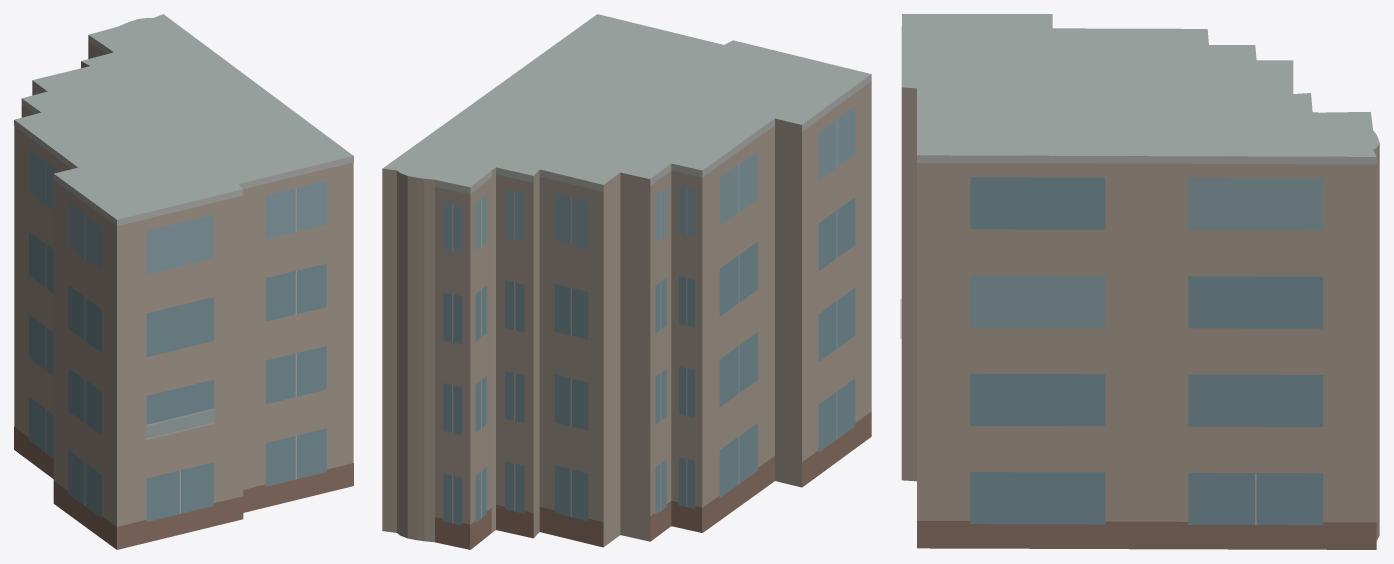
Rendered from survey-upis-32780358.glb.
The picture shows the model from 3 angles, left to right: view 1: azimuth 30°, elevation 25°; view 2: azimuth 150°, elevation 25°; view 3: azimuth 270°, elevation 25°; orthographic projection. The views are drawn at different scales.
Visible parts, largest first — view 1: survey-upis-32780358.tmp; view 2: survey-upis-32780358.tmp; view 3: survey-upis-32780358.tmp.
Boxes of the visible parts, x1,y1,x2,y2 form: survey-upis-32780358.tmp: (14,14,353,549); survey-upis-32780358.tmp: (382,14,871,549); survey-upis-32780358.tmp: (900,14,1379,549).
Size of the model in its own units: 9.91 by 12.7 by 14.04.
